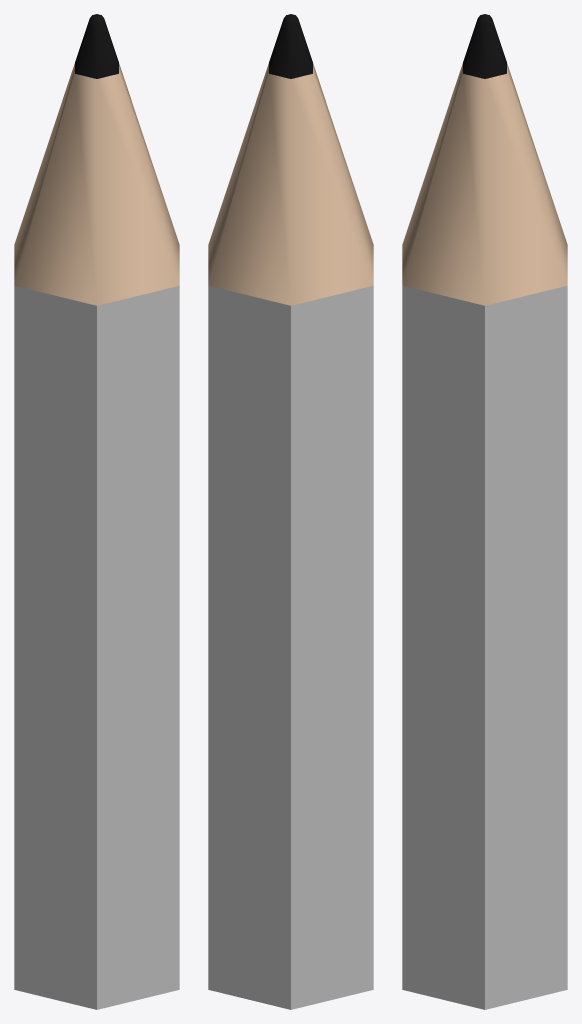
Rendered from New_pencile_pieces.fbx.
The picture shows the model from 3 angles, left to right: view 1: azimuth 30°, elevation 25°; view 2: azimuth 150°, elevation 25°; view 3: azimuth 270°, elevation 25°; orthographic projection.
Parts seen in each view (by area): view 1: Pencil_pieces_top, Pencil_pieces_bottom; view 2: Pencil_pieces_top, Pencil_pieces_bottom; view 3: Pencil_pieces_top, Pencil_pieces_bottom.
Part boxes in pixels (x1,y1,x2,y2): Pencil_pieces_top: (14,14,179,772); Pencil_pieces_bottom: (14,752,179,1009); Pencil_pieces_top: (208,14,373,772); Pencil_pieces_bottom: (208,752,373,1009); Pencil_pieces_top: (402,14,567,772); Pencil_pieces_bottom: (402,752,567,1009).
Size of the model in its own units: 196 by 1080 by 170.
